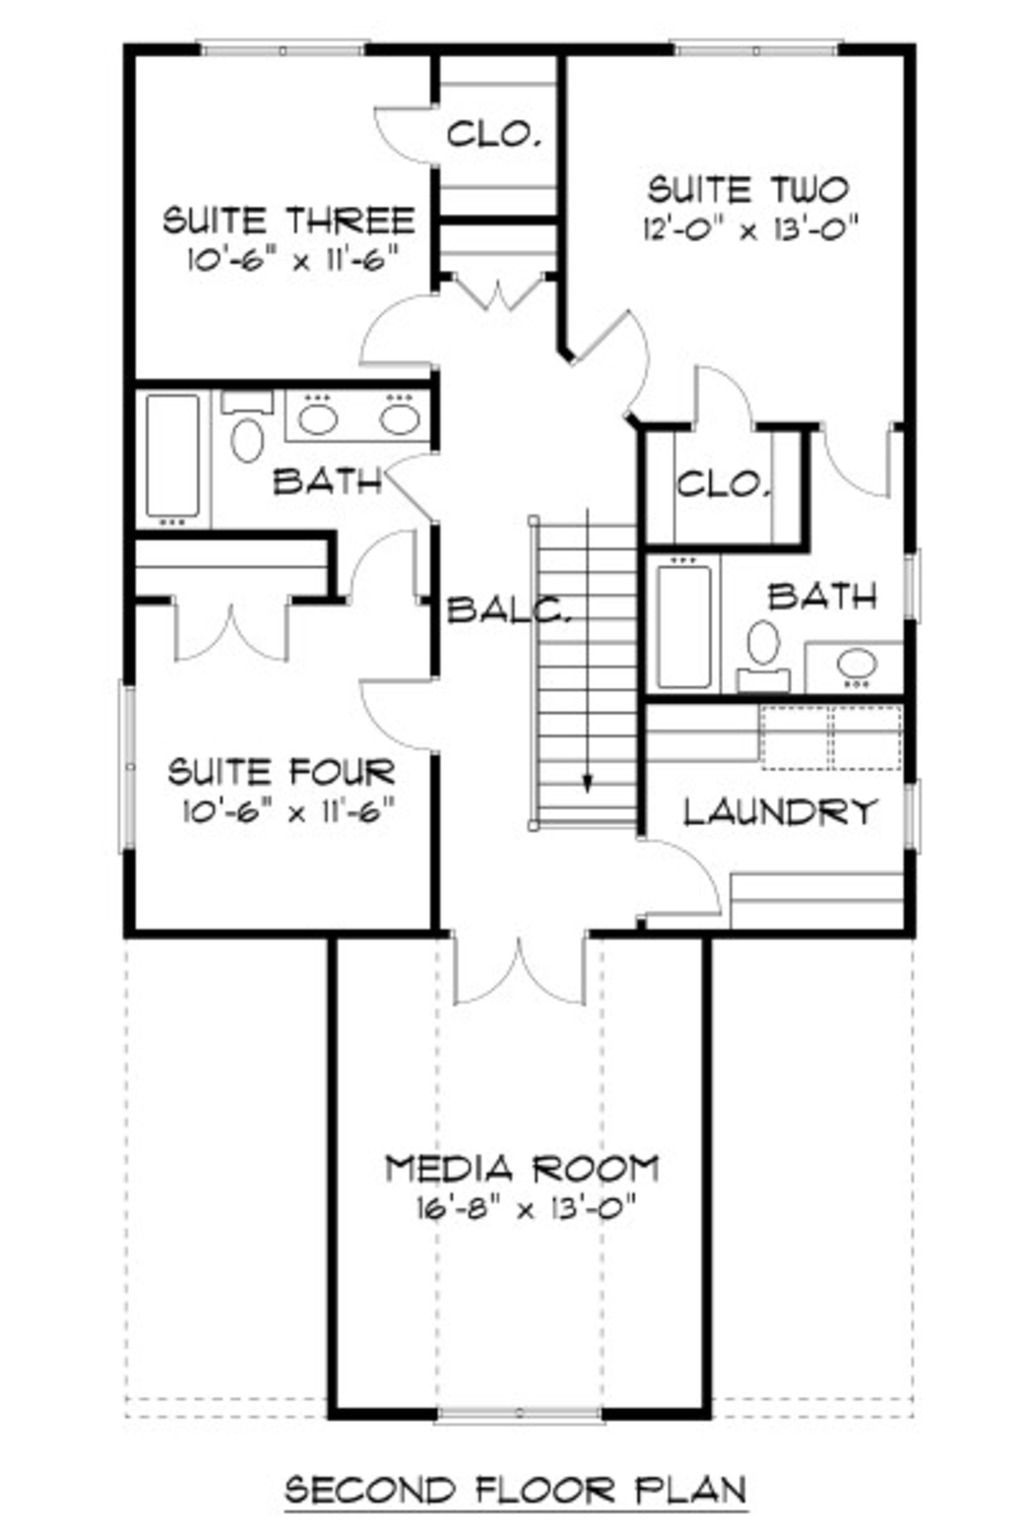door: (447, 929, 609, 1029), (571, 299, 666, 429), (341, 669, 454, 769), (633, 831, 723, 923), (354, 286, 440, 383), (333, 526, 426, 610), (173, 598, 290, 664), (811, 422, 909, 495), (368, 105, 440, 193), (693, 367, 773, 443), (445, 269, 552, 317), (379, 459, 457, 526)
large_sink: (735, 617, 797, 707), (211, 391, 277, 469)
small_sink: (277, 389, 426, 448), (805, 641, 891, 693)
stairs: (509, 510, 654, 837)
tub: (130, 395, 221, 531), (651, 560, 721, 705)
window: (677, 17, 853, 67), (109, 686, 157, 838), (202, 31, 373, 72), (427, 1391, 602, 1431), (890, 550, 939, 631), (891, 783, 928, 853)
